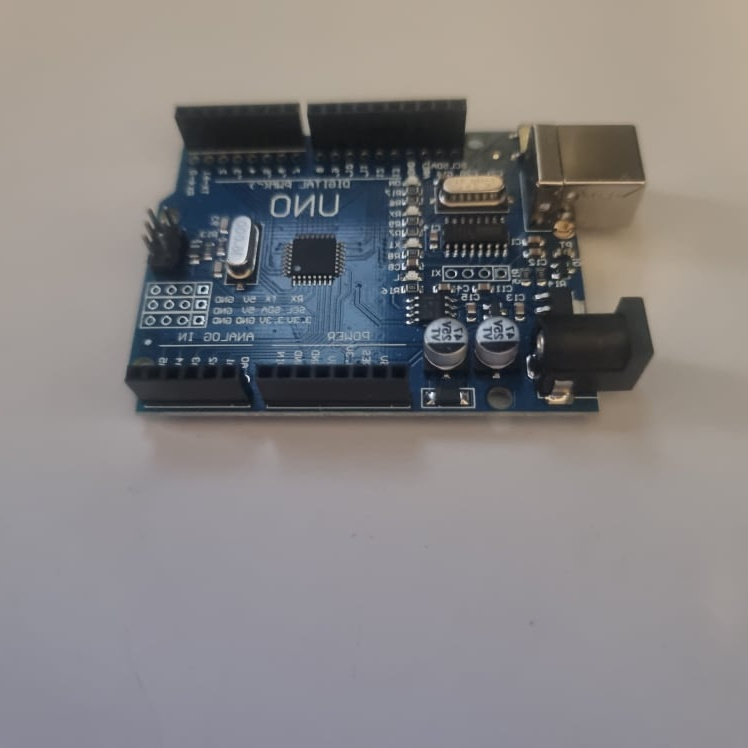UNO R3: (121, 96, 648, 417)
